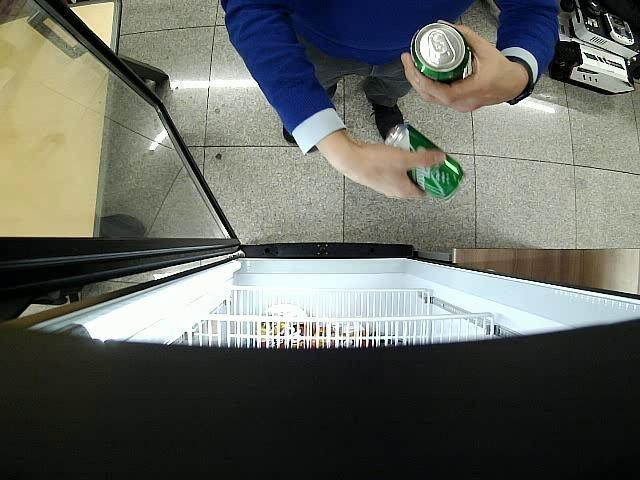12_chilsungCider: (384, 126, 464, 202), (410, 23, 470, 83)
